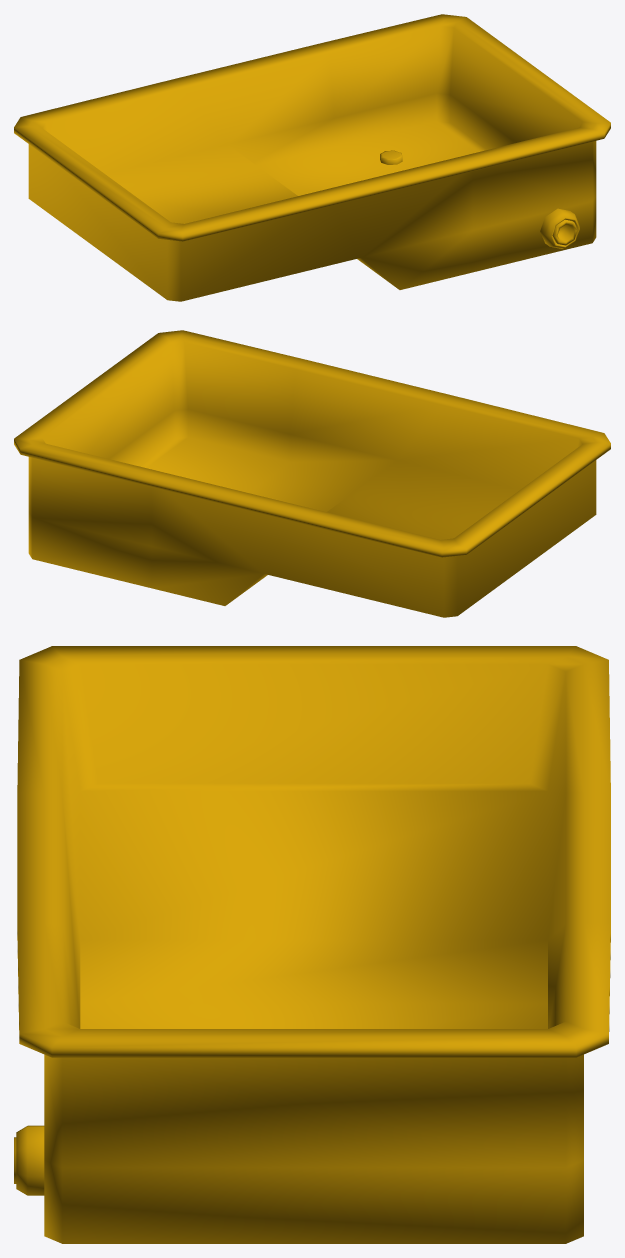
The model's file is Oil_pan.FBX.
The picture shows the model from 3 angles, top to bottom: view 1: azimuth 30°, elevation 25°; view 2: azimuth 150°, elevation 25°; view 3: azimuth 270°, elevation 25°; orthographic projection. The views are drawn at different scales.
Parts seen in each view (by area): view 1: Box003; view 2: Box003; view 3: Box003.
Boxes of the visible parts, x1,y1,x2,y2 form: Box003: (14, 14, 610, 301); Box003: (14, 330, 610, 617); Box003: (14, 646, 610, 1243).
Bounding box in the file's own units: 52.77 × 12.71 × 33.19.
